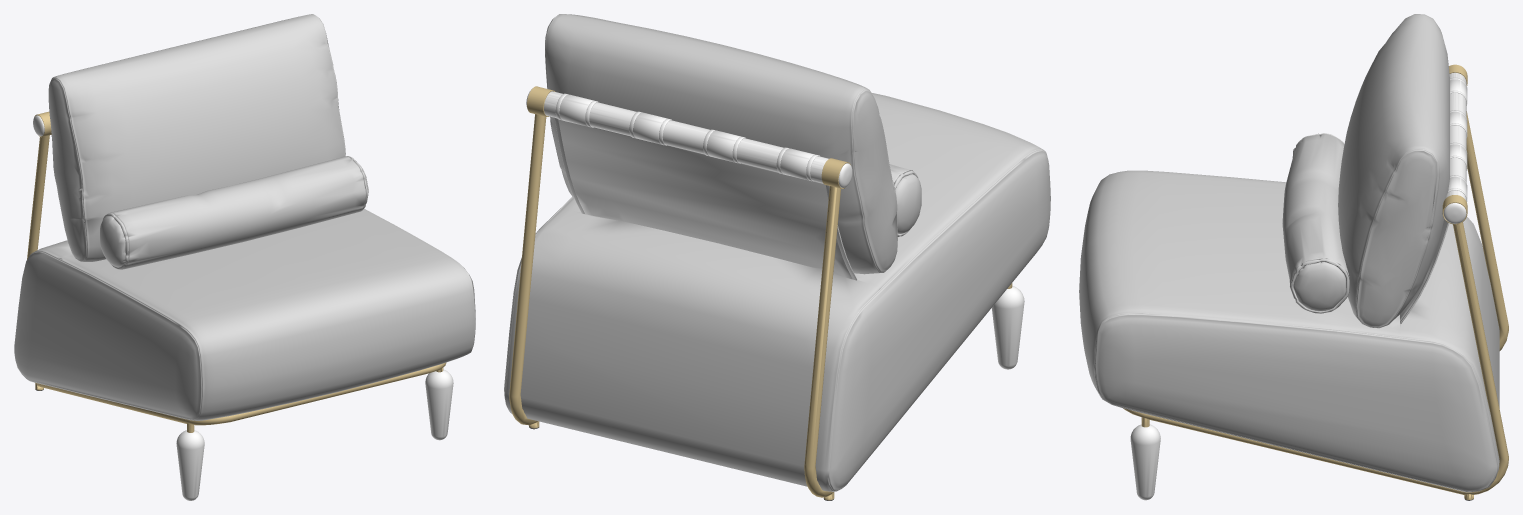
File: poltrona-liz.glb
3 renders of one model, left to right at view 1: azimuth 30°, elevation 25°; view 2: azimuth 150°, elevation 25°; view 3: azimuth 270°, elevation 25°, orthographic. The views are drawn at different scales.
Visible parts, largest first — view 1: 3DGeom-33, 3DGeom-35, 3DGeom-36, 3DGeom-39, 3DGeom-1 (×2); view 2: 3DGeom-33, 3DGeom-35, 3DGeom-27, 3DGeom-39, 3DGeom-19, 3DGeom-3 (×4), 3DGeom-1, 3DGeom-36; view 3: 3DGeom-33, 3DGeom-35, 3DGeom-36, 3DGeom-39, 3DGeom-1, 3DGeom-19, 3DGeom-21.
Part boxes in pixels (x1=…): 3DGeom-33: x1=14, y1=208, x2=475, y2=420; 3DGeom-35: x1=48, y1=14, x2=345, y2=261; 3DGeom-36: x1=100, y1=156, x2=368, y2=269; 3DGeom-39: x1=27, y1=111, x2=446, y2=432; 3DGeom-1 (×2): x1=176, y1=369, x2=453, y2=500; 3DGeom-33: x1=504, y1=93, x2=1050, y2=491; 3DGeom-35: x1=545, y1=14, x2=897, y2=274; 3DGeom-27: x1=554, y1=118, x2=856, y2=280; 3DGeom-39: x1=509, y1=86, x2=1012, y2=500; 3DGeom-19: x1=526, y1=89, x2=852, y2=187; 3DGeom-3 (×4): x1=555, y1=93, x2=820, y2=181; 3DGeom-1: x1=991, y1=286, x2=1024, y2=369; 3DGeom-36: x1=889, y1=164, x2=921, y2=236; 3DGeom-33: x1=1079, y1=170, x2=1499, y2=492; 3DGeom-35: x1=1338, y1=14, x2=1449, y2=328; 3DGeom-36: x1=1282, y1=133, x2=1349, y2=313; 3DGeom-39: x1=1123, y1=64, x2=1508, y2=499; 3DGeom-1: x1=1130, y1=424, x2=1160, y2=500; 3DGeom-19: x1=1443, y1=72, x2=1466, y2=223; 3DGeom-21: x1=1400, y1=219, x2=1448, y2=323.
Bounding box in the file's own units: 0.72 × 0.7889 × 0.8654.
